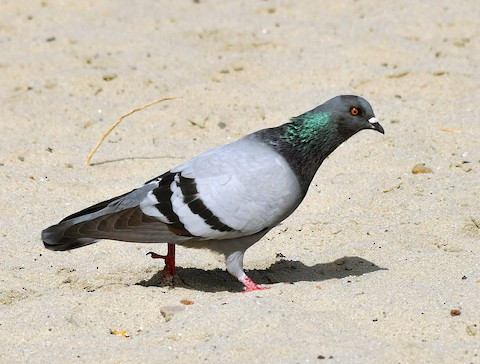pigeon: (42, 79, 391, 301)
